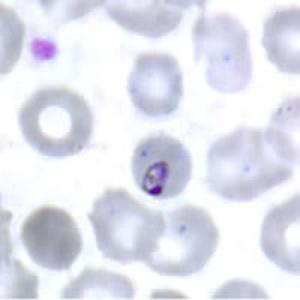Infected: (132, 133, 196, 200)
Uninfected: (208, 126, 293, 201), (88, 186, 161, 265), (18, 86, 92, 158), (147, 205, 219, 277), (192, 14, 253, 95), (19, 205, 84, 270), (127, 51, 183, 116), (258, 196, 300, 274), (263, 8, 300, 76)
